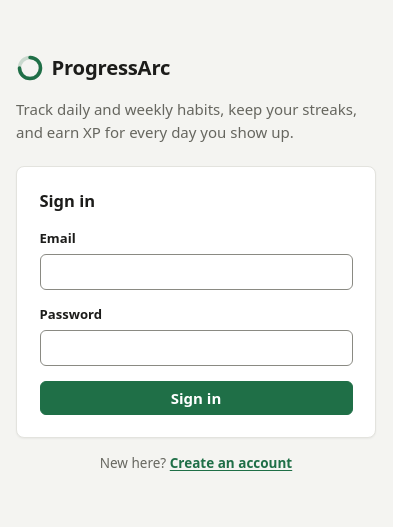
Scenario: AuthScreen › explains a server it cannot reach
The width and height of the screenshot is (393, 527).
In the field labelled "Email": (196, 272) [40,254,352,290], type "a@example.com"
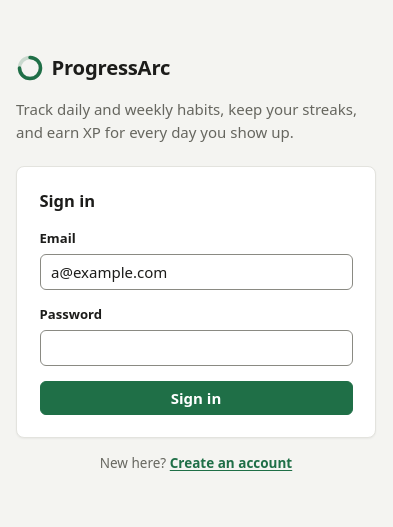
In the password field labelled "Password": (196, 348) [40,330,352,366], type "password1"
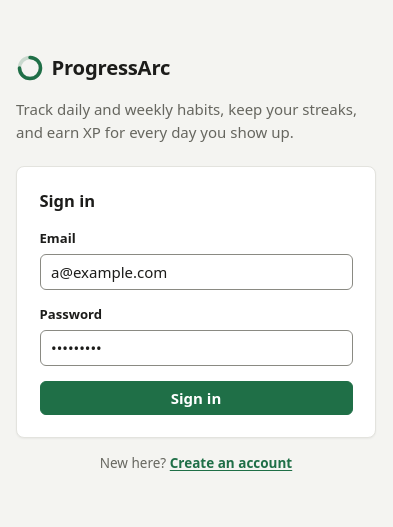
Click the button "Sign in": (196, 398) [40,381,352,415]
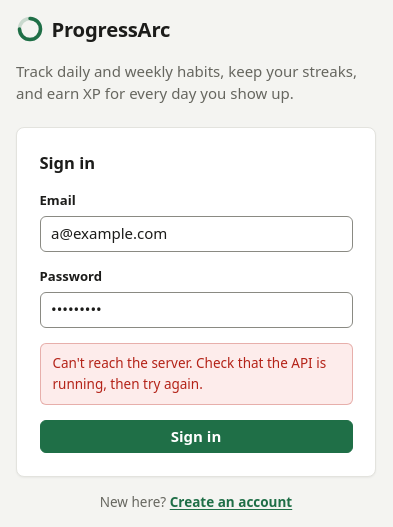
Result: the message reads "Can't reach the server. Check that the API is running, then try again." at [52,354,326,393]
